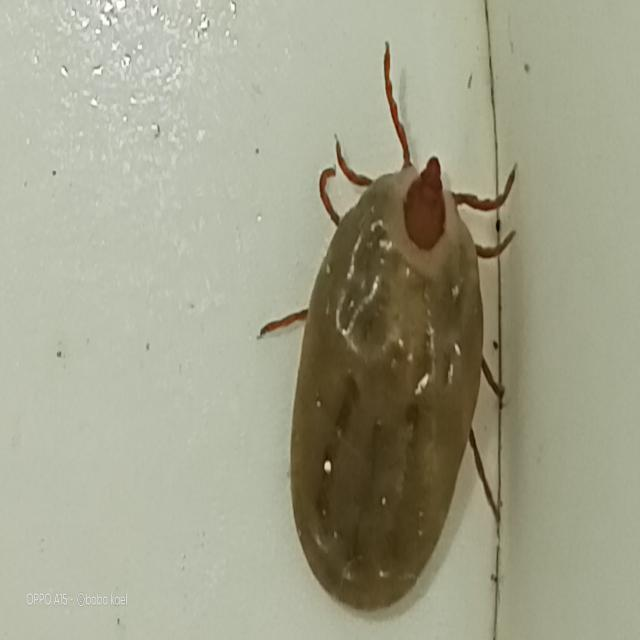Rhipicephalus Sanguineus-F-Fed: (258, 48, 516, 621)
